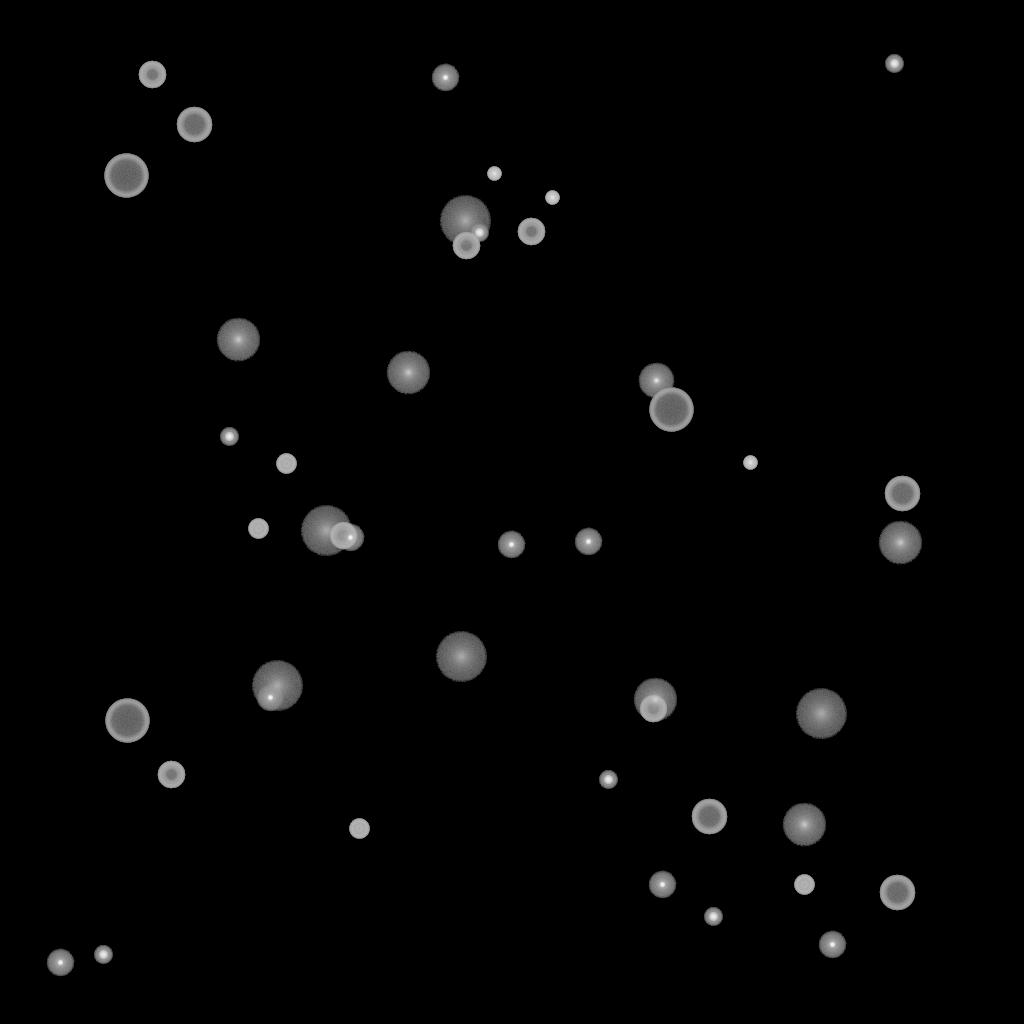depth:-10: (818, 931, 846, 959), (46, 949, 74, 977), (648, 871, 676, 899), (336, 524, 364, 552), (497, 531, 525, 559), (256, 684, 284, 712), (431, 64, 459, 92), (574, 528, 602, 556)
depth:-20: (94, 946, 112, 964), (885, 55, 903, 73), (220, 428, 238, 446), (704, 908, 722, 926), (470, 224, 488, 242), (599, 771, 617, 789)
depth:-30: (545, 191, 559, 205), (743, 456, 757, 470), (487, 167, 501, 181)
depth:-40: (349, 819, 369, 839), (276, 454, 296, 474), (248, 519, 268, 539), (794, 875, 814, 895)
depth:-50: (517, 218, 545, 246), (157, 761, 185, 789), (639, 695, 667, 723), (138, 61, 166, 89), (452, 232, 480, 260), (329, 522, 357, 550)
depth:-60: (176, 107, 212, 143), (691, 799, 727, 835), (884, 476, 920, 512), (879, 875, 915, 911)
depth:-70: (105, 699, 149, 743), (104, 154, 148, 198), (649, 388, 693, 432)
depth:0: (638, 363, 674, 399)
depth:10: (782, 803, 826, 847), (386, 351, 430, 395), (878, 521, 922, 565), (633, 678, 677, 722), (216, 318, 260, 362)
depth:20: (795, 689, 847, 739), (439, 196, 491, 246), (300, 506, 352, 556), (435, 632, 487, 682), (251, 661, 303, 711)
